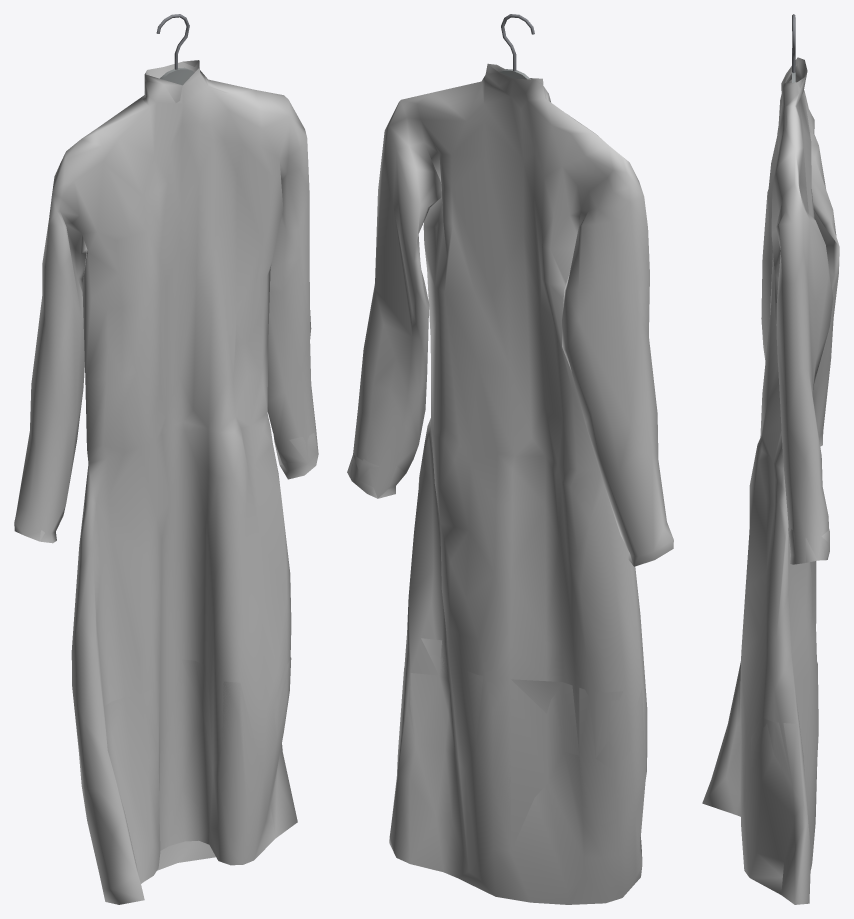
File: dress-3.FBX
The picture shows the model from 3 angles, left to right: view 1: azimuth 30°, elevation 25°; view 2: azimuth 150°, elevation 25°; view 3: azimuth 270°, elevation 25°; orthographic projection. The views are drawn at different scales.
Visible parts, largest first — view 1: dress-3_LOD0, _Hanger-5_LOD0; view 2: dress-3_LOD0; view 3: dress-3_LOD0.
Part boxes in pixels (<box>): dress-3_LOD0: <box>14,60,318,904</box>; _Hanger-5_LOD0: <box>156,14,194,85</box>; dress-3_LOD0: <box>347,63,673,904</box>; dress-3_LOD0: <box>702,57,839,904</box>.
Size of what is drawn, in the model's own units: 44.18 by 17.18 by 117.
